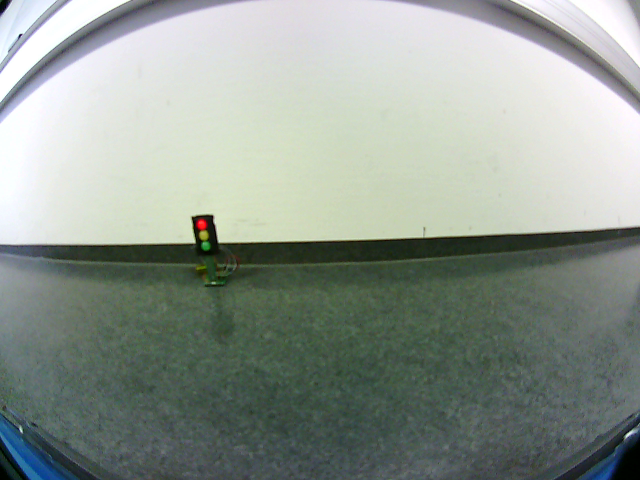red trafficlight: (195, 215, 214, 255)
